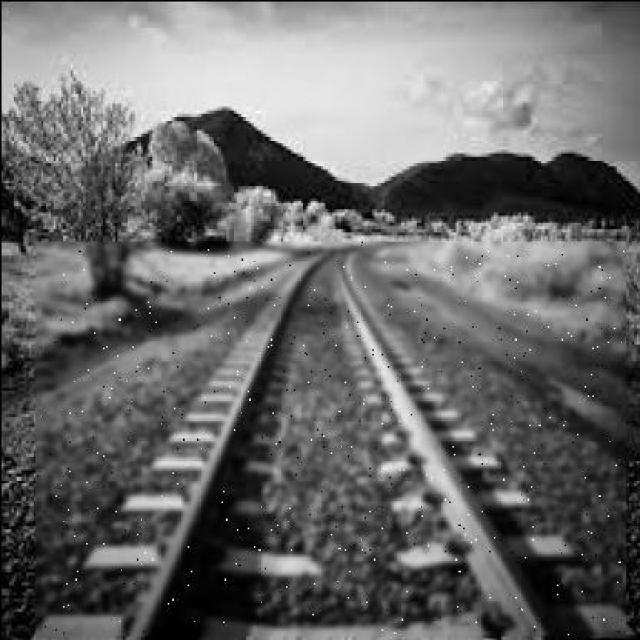rail: (36, 242, 625, 635)
